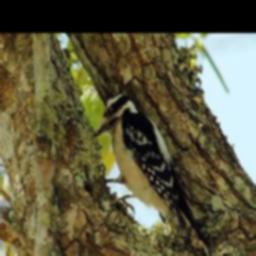Woodpecker: (91, 84, 212, 254)
